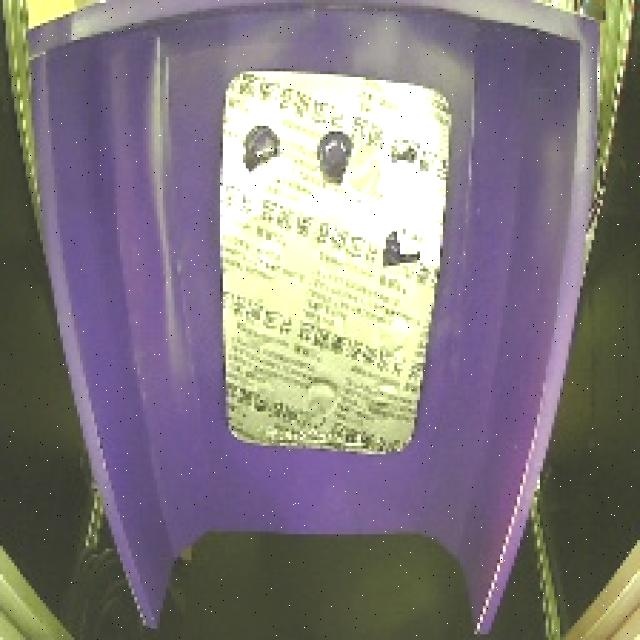med_plate: (204, 61, 463, 466)
